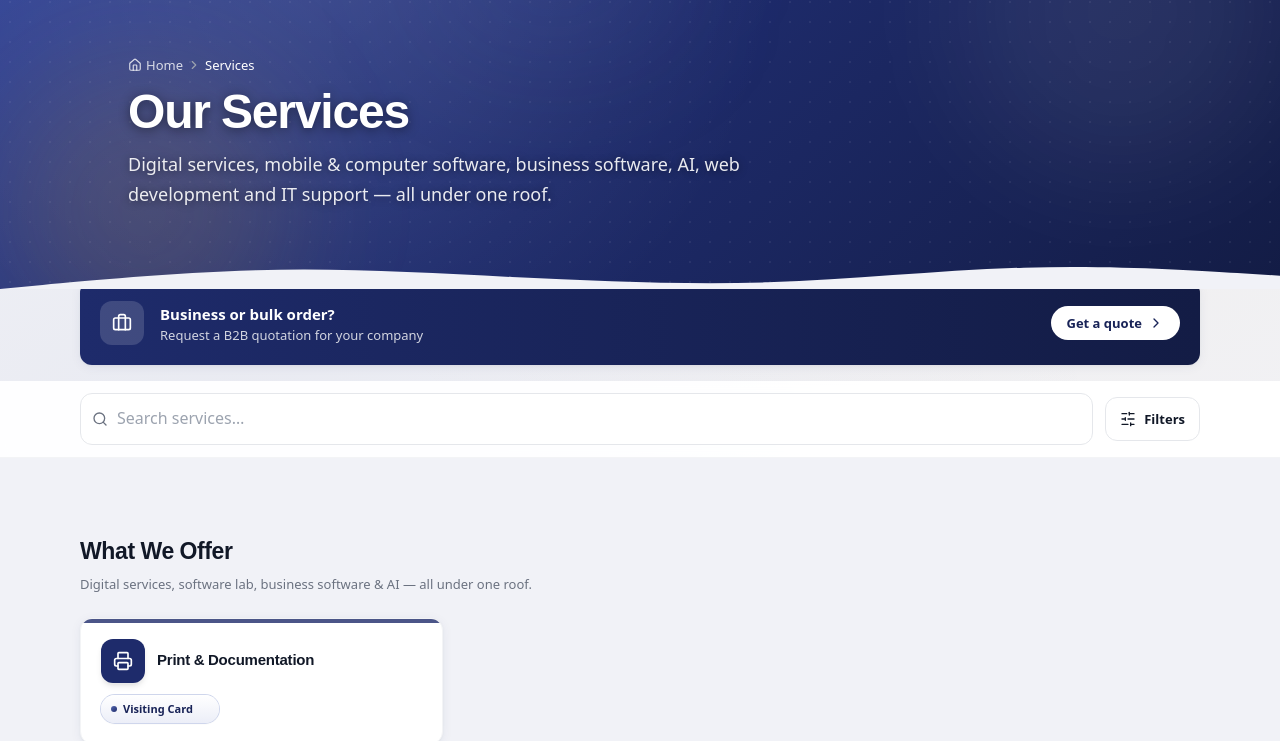
Test: Services Page › should build the All Services filter chips from the live taxonomy
The width and height of the screenshot is (1280, 741).
Click the button "Filters" at (1153, 419), box [1105, 397, 1200, 441]
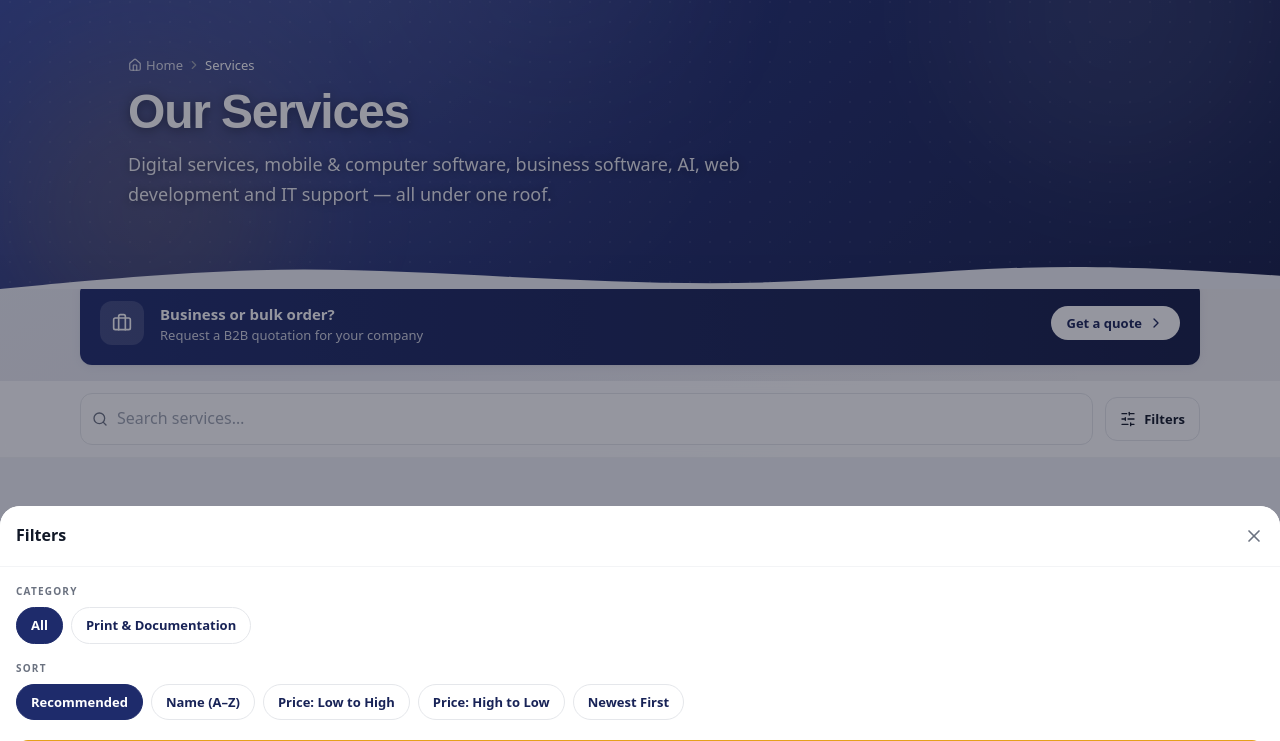
Now the button "All" is shown, box [16, 607, 63, 644]
